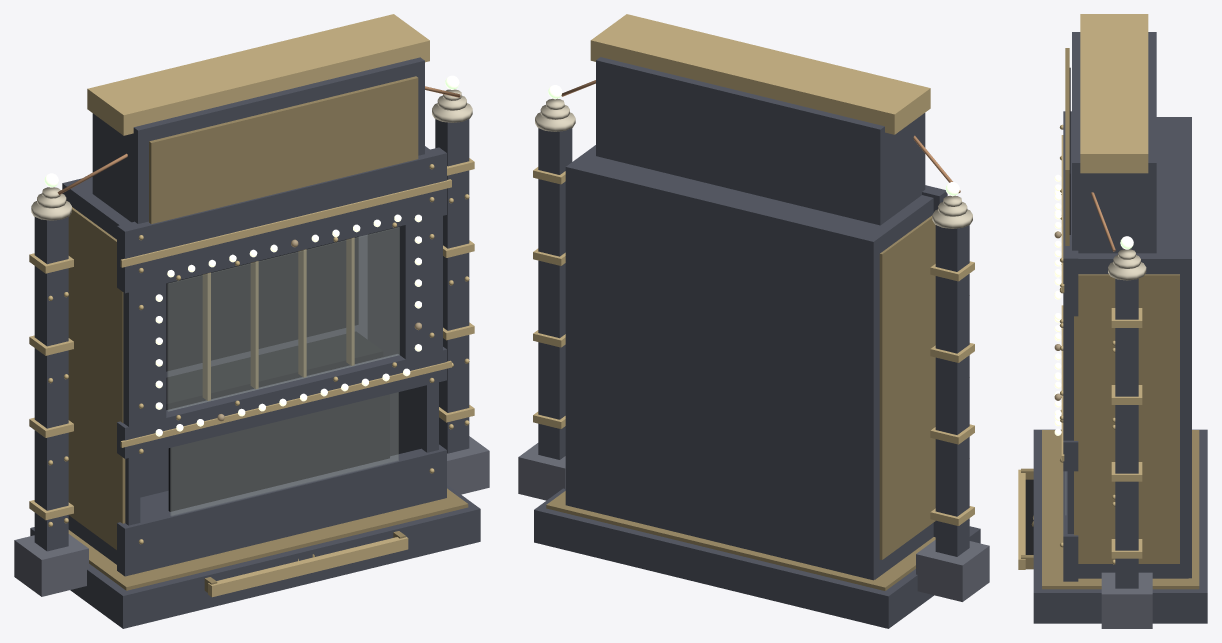
The model's file is cabinet.glb.
The picture shows the model from 3 angles, left to right: view 1: azimuth 30°, elevation 25°; view 2: azimuth 150°, elevation 25°; view 3: azimuth 270°, elevation 25°; orthographic projection. The views are drawn at different scales.
Parts seen in each view (by area): view 1: CabinetIron, CabinetBrass, ReelGlass, CabinetDark, BellyGlass, BellyPlate, CabinetCeramic, Rivets; view 2: CabinetIron, CabinetBrass, CabinetCeramic; view 3: CabinetBrass, CabinetIron, CabinetCeramic, CabinetDark, Rivets, MarqueePlate.
Boxes of the visible parts, x1,y1,x2,y2 form: CabinetIron: (14, 57, 489, 628); CabinetBrass: (29, 14, 474, 597); ReelGlass: (167, 227, 399, 411); CabinetDark: (166, 236, 383, 409); BellyGlass: (170, 392, 398, 515); BellyPlate: (168, 394, 389, 511); CabinetCeramic: (31, 89, 472, 220); Rivets: (48, 164, 469, 544); CabinetIron: (518, 57, 989, 628); CabinetBrass: (533, 14, 974, 590); CabinetCeramic: (535, 98, 972, 228); CabinetBrass: (1018, 14, 1199, 589); CabinetIron: (1033, 32, 1207, 628); CabinetCeramic: (1108, 249, 1146, 280); CabinetDark: (1025, 479, 1033, 554); Rivets: (1059, 124, 1115, 564); MarqueePlate: (1069, 67, 1070, 234).
Bounding box in the file's own units: 2.28 × 2.38 × 0.8925.
